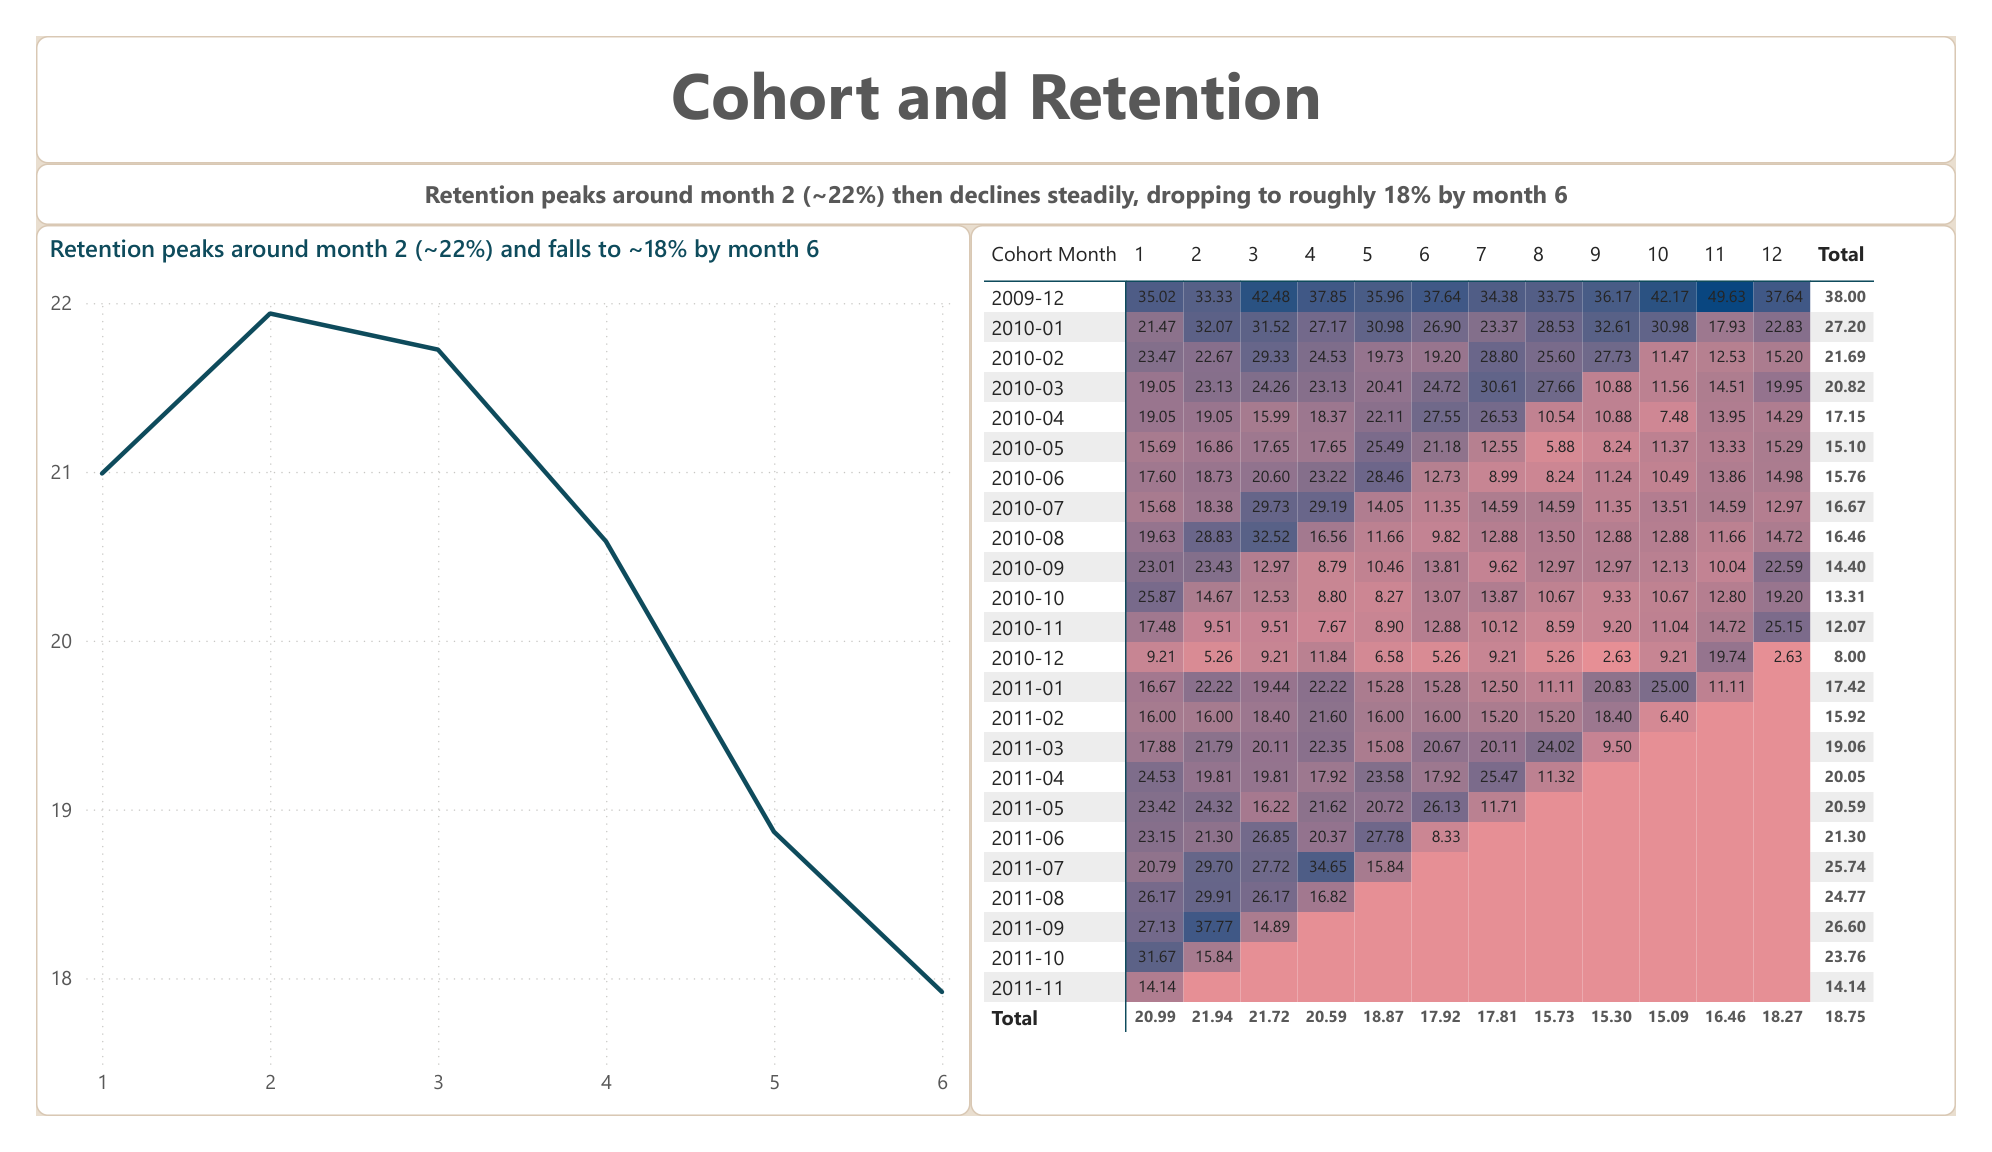

The page's visual inventory and layout, read from the dashboard file:
{"tool":"powerbi","page":{"name":"Cohort and Retention","canvas":[1280,720],"ordinal":4},"visuals":[{"type":"textbox","box":[0,0,1279.8,84.7],"z":0},{"type":"textbox","box":[0,84.7,1279.8,41.7],"z":1},{"type":"pivotTable","fields":{"Columns":["rpt cohort_retention.month_number"],"Rows":["rpt cohort_retention.Cohort Month"],"Values":["Avg(rpt cohort_retention.retention_pct)"]},"box":[623.3,126.4,656.4,593.9],"z":2},{"type":"lineChart","title":"Retention peaks around month 2 (~22%) and falls to ~18% by month 6","fields":{"Category":["rpt cohort_retention.month_number"],"Y":["Avg(rpt cohort_retention.retention_pct)"]},"box":[0,126.4,623.3,593.9],"z":3}]}

Visuals, with their boxes in screenshot pixels (x1, y1, x2, y2), scaled from the page's 1280x720 canvas onto the 1992x1152 screenshot:
textbox: l=0, t=0, r=1991, b=136
textbox: l=0, t=136, r=1991, b=202
pivotTable - rpt cohort_retention.month_number x rpt cohort_retention.Cohort Month: l=970, t=202, r=1991, b=1151
"Retention peaks around month 2 (~22%) and falls to ~18% by month 6" lineChart: l=0, t=202, r=970, b=1151
